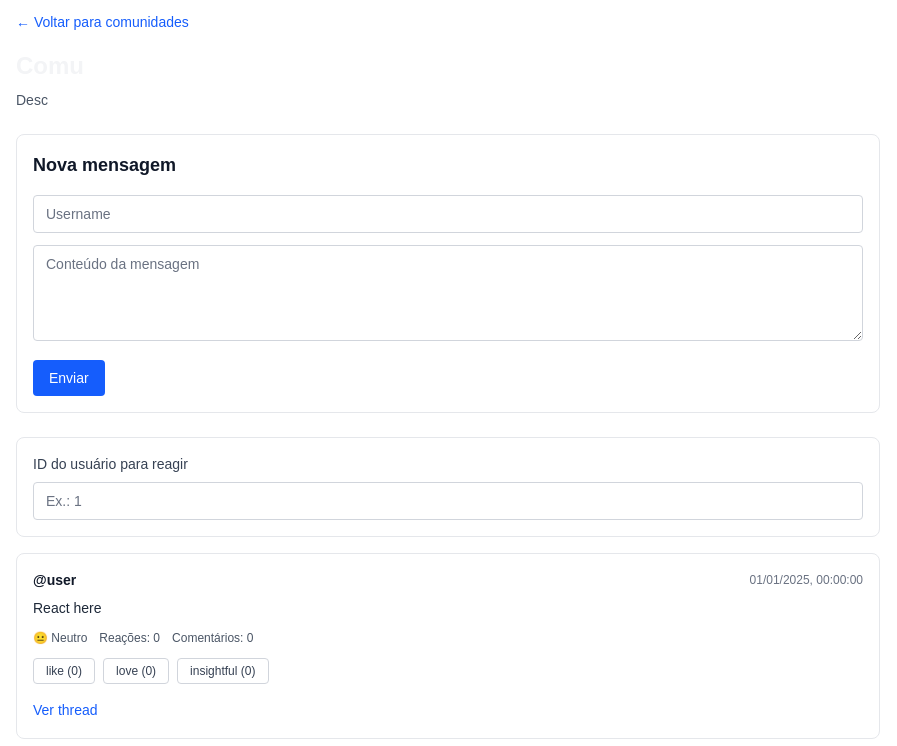
Test case: CommunityTimelinePage › should surface API error message when reaction fails
The image size is (897, 746).
Expected: the text "React here" is shown, [33,600,102,616]
Type "2" into the field with placeholder "Ex.: 1".
click(448, 501); type("2")  # box [33,482,863,520]
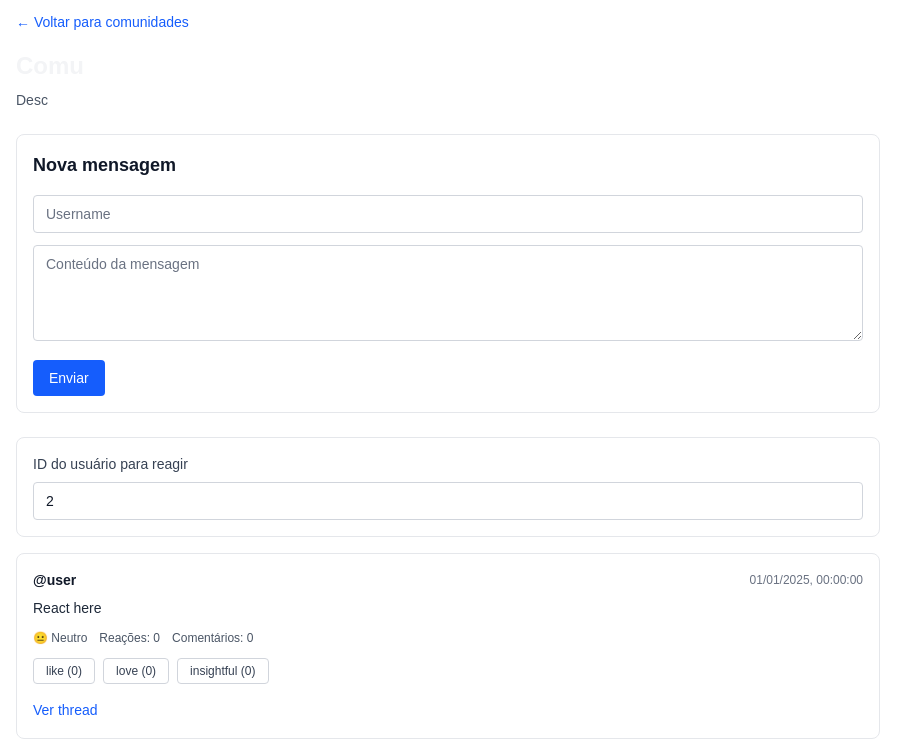
Click the button "like (0)".
click(64, 671)  # box [33,658,95,684]
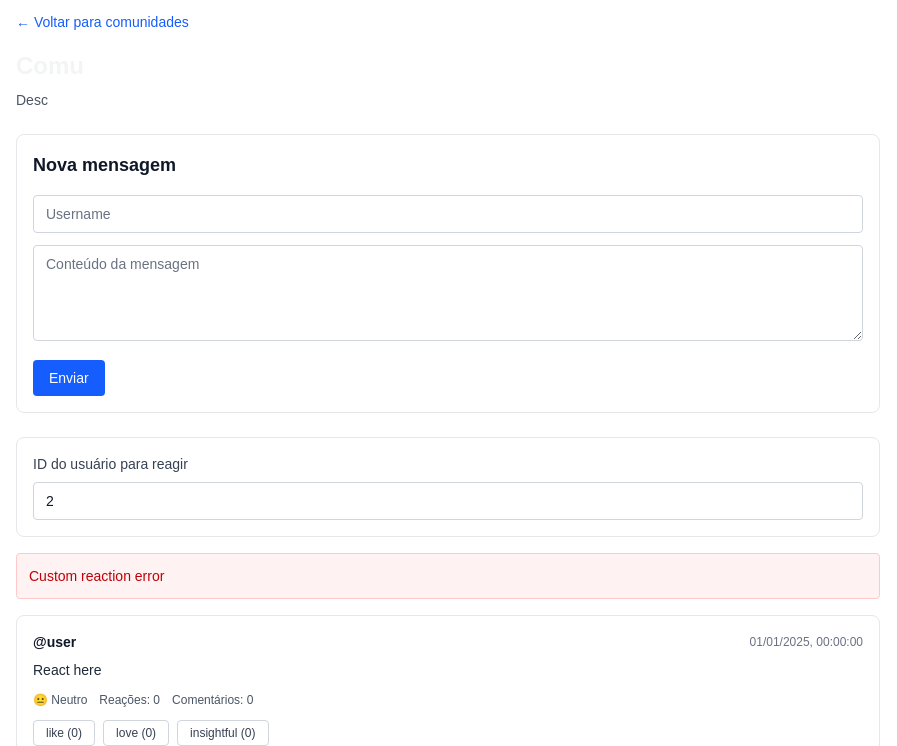
Now the text "Custom reaction error" is shown, box [16,553,880,599]
